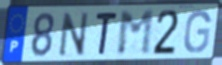2: (151, 8, 181, 57)
8: (30, 11, 57, 59)
G: (182, 9, 213, 55)
M: (116, 8, 155, 57)
N: (58, 10, 90, 59)
T: (94, 11, 120, 57)
